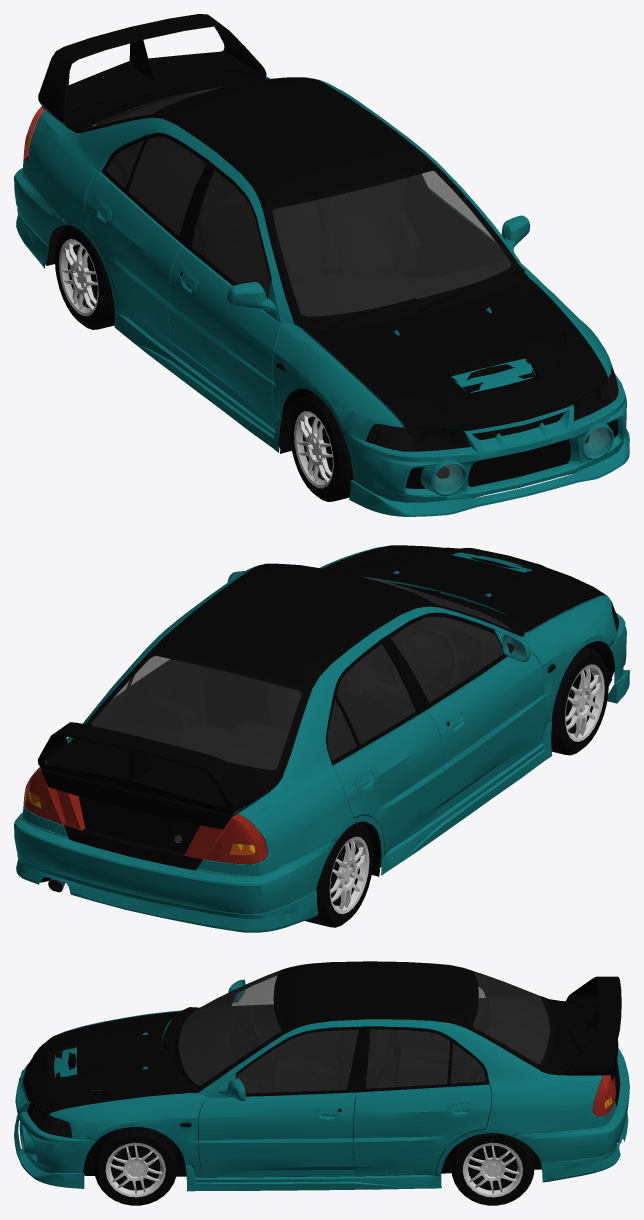
File: evo6.glb
The picture shows the model from 3 angles, top to bottom: view 1: azimuth 30°, elevation 25°; view 2: azimuth 150°, elevation 25°; view 3: azimuth 270°, elevation 25°; orthographic projection. The views are drawn at different scales.
Parts seen in each view (by area): view 1: Material2.008_material_1_0, Material3.003_window_0, Material2.474_CARBON_0, Material2.462_CARBON_0, Material2.005_black_0, Material2.346_CARBON_0, Material2.064_material_2_0, Material2.177_material_2_0, Material2.143_material_2_0, Material2.068_material_2_0, Material2.241_material_2_0, Material2.067_material_2_0 (+22 smaller); view 2: Material2.008_material_1_0, Material3.003_window_0, Material2.462_CARBON_0, Material2.464_material_2_0, Material2.413_CARBON_0, Material2.474_CARBON_0, Material2.346_CARBON_0, Material2.005_black_0, Material2.177_material_2_0, Material2.068_material_2_0, Material2.067_material_2_0, Material2.241_material_2_0 (+15 smaller); view 3: Material2.008_material_1_0, Material3.003_window_0, Material2.462_CARBON_0, Material2.474_CARBON_0, Material2.493_material_2_0, Material2.721_material_2_0, Material2.663_material_2_0, Material2.005_black_0, Material2.565_material_2_0, Material2.464_material_2_0, Material2.346_CARBON_0, Material2.567_material_2_0 (+16 smaller).
Boxes of the visible parts, x1,y1,x2,y2 form: Material2.008_material_1_0: [93, 92, 524, 406]; Material3.003_window_0: [93, 83, 510, 316]; Material2.474_CARBON_0: [303, 274, 607, 430]; Material2.462_CARBON_0: [154, 77, 433, 205]; Material2.005_black_0: [24, 78, 607, 497]; Material2.346_CARBON_0: [38, 14, 266, 125]; Material2.064_material_2_0: [342, 373, 626, 502]; Material2.177_material_2_0: [83, 173, 180, 352]; Material2.143_material_2_0: [272, 323, 403, 440]; Material2.068_material_2_0: [22, 111, 292, 317]; Material2.241_material_2_0: [169, 247, 280, 416]; Material2.067_material_2_0: [23, 110, 284, 312]; Material2.008_material_1_0: [92, 584, 525, 821]; Material3.003_window_0: [91, 576, 510, 770]; Material2.462_CARBON_0: [154, 563, 432, 687]; Material2.464_material_2_0: [14, 812, 335, 932]; Material2.413_CARBON_0: [41, 738, 282, 869]; Material2.474_CARBON_0: [322, 545, 606, 632]; Material2.346_CARBON_0: [37, 722, 266, 815]; Material2.005_black_0: [25, 552, 616, 892]; Material2.177_material_2_0: [334, 712, 443, 855]; Material2.068_material_2_0: [239, 606, 518, 875]; Material2.067_material_2_0: [238, 609, 503, 875]; Material2.241_material_2_0: [428, 652, 543, 817]; Material2.008_material_1_0: [163, 971, 549, 1112]; Material3.003_window_0: [178, 971, 549, 1093]; Material2.462_CARBON_0: [277, 961, 473, 1029]; Material2.474_CARBON_0: [23, 1011, 188, 1114]; Material2.493_material_2_0: [203, 1019, 602, 1175]; Material2.721_material_2_0: [353, 1084, 491, 1176]; Material2.663_material_2_0: [198, 1093, 355, 1176]; Material2.005_black_0: [29, 961, 620, 1177]; Material2.565_material_2_0: [50, 1093, 206, 1177]; Material2.464_material_2_0: [513, 1048, 629, 1182]; Material2.346_CARBON_0: [565, 976, 621, 1074]; Material2.567_material_2_0: [198, 1094, 355, 1142].
Size of the model in its own units: 1.86 by 1.34 by 4.35.
